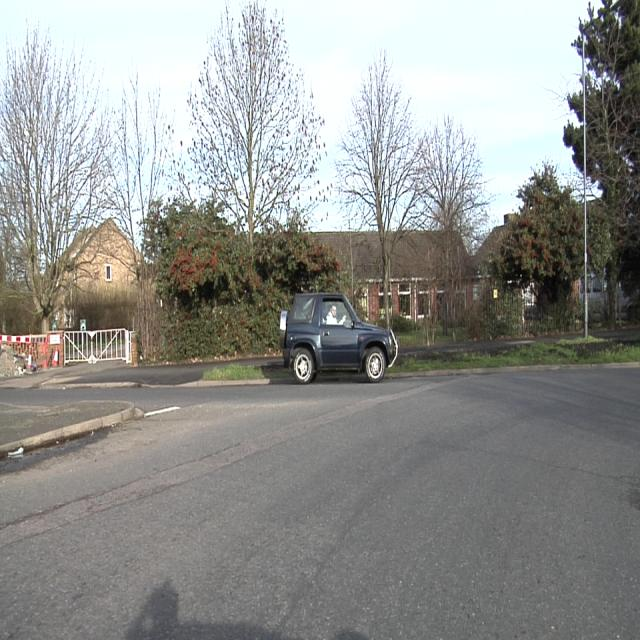Car: (284, 293, 398, 382)
Road: (0, 367, 638, 622)
Tree: (2, 17, 420, 334), (337, 47, 581, 333), (585, 1, 639, 325)
